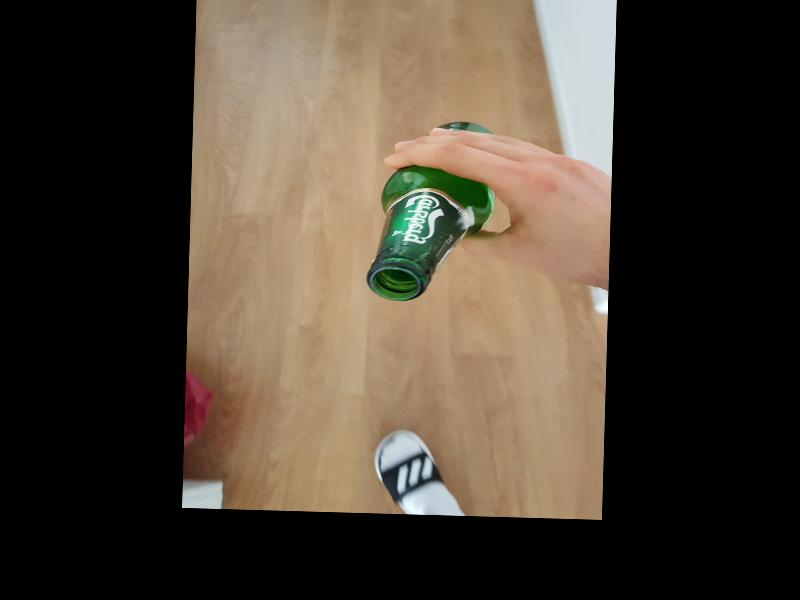Beer: (364, 119, 495, 303)
